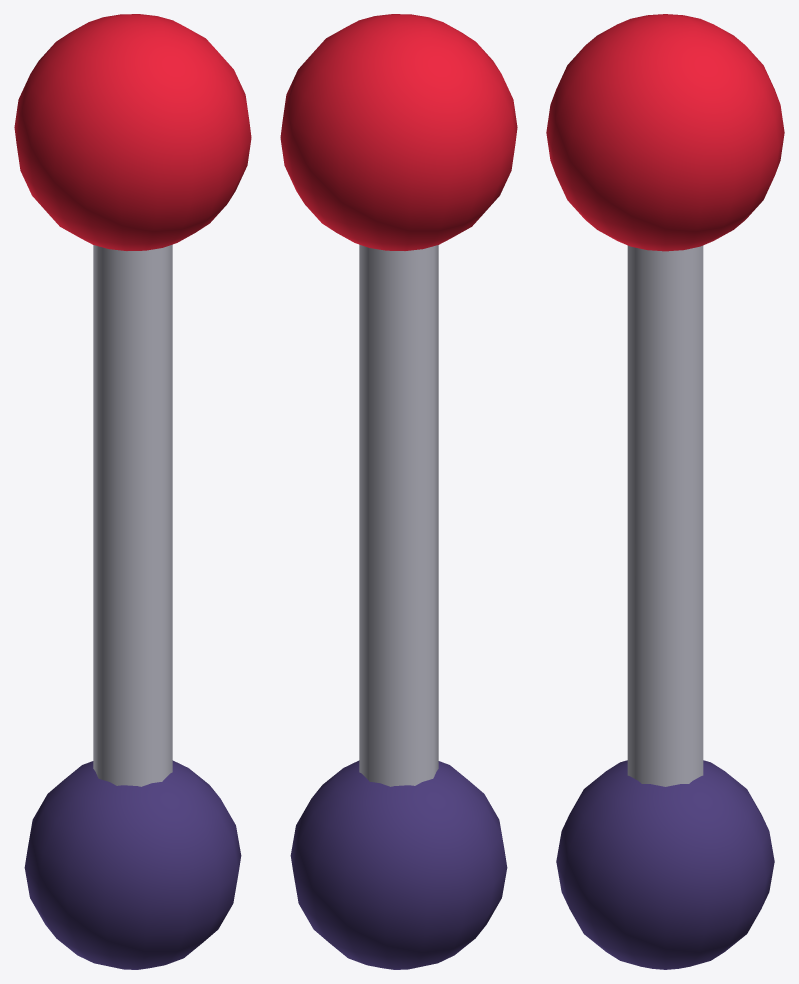
File: Lever.fbx
3 renders of one model, left to right at view 1: azimuth 30°, elevation 25°; view 2: azimuth 150°, elevation 25°; view 3: azimuth 270°, elevation 25°, orthographic.
Parts seen in each view (by area): view 1: Knob_E8213A, Rod_C9C9D6_Metal, Hub_4B3C7A; view 2: Knob_E8213A, Rod_C9C9D6_Metal, Hub_4B3C7A; view 3: Knob_E8213A, Rod_C9C9D6_Metal, Hub_4B3C7A.
Boxes of the visible parts, x1,y1,x2,y2 form: Knob_E8213A: (14, 14, 251, 250); Rod_C9C9D6_Metal: (93, 244, 172, 786); Hub_4B3C7A: (24, 760, 241, 969); Knob_E8213A: (280, 14, 517, 250); Rod_C9C9D6_Metal: (359, 244, 438, 786); Hub_4B3C7A: (290, 760, 507, 969); Knob_E8213A: (546, 14, 784, 251); Rod_C9C9D6_Metal: (627, 245, 703, 786); Hub_4B3C7A: (556, 760, 774, 969).
Size of the model in its own units: 0.48 by 2.08 by 0.48.
